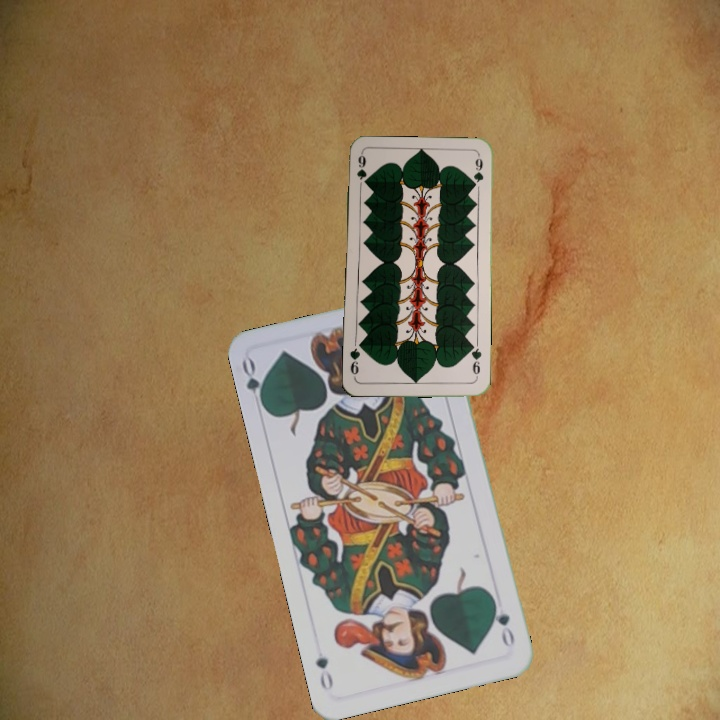G9: (467, 341, 484, 381), (353, 151, 368, 182)
GO: (237, 355, 268, 412), (489, 595, 517, 651)
